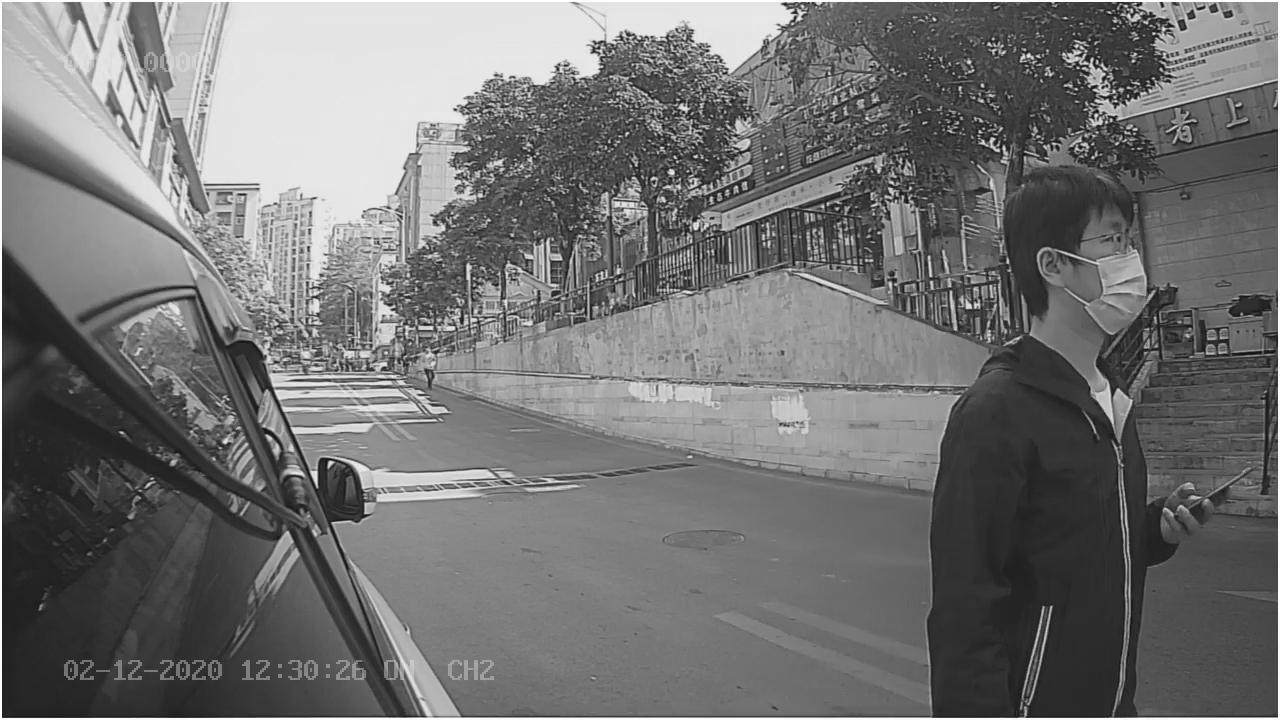person: (929, 154, 1216, 594)
